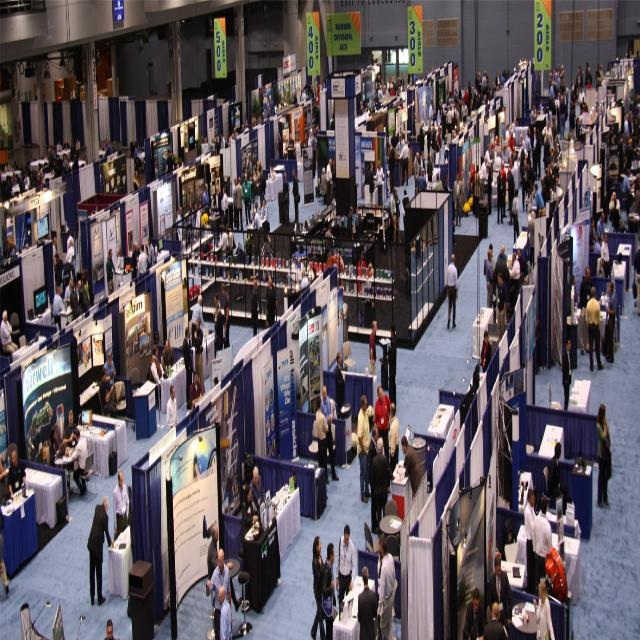body: (212, 58, 497, 221), (496, 49, 640, 270), (173, 220, 390, 296), (100, 118, 212, 224), (0, 137, 89, 270), (207, 522, 244, 614), (86, 494, 115, 609), (370, 436, 394, 542), (205, 546, 232, 640), (354, 390, 374, 506), (594, 399, 614, 512), (487, 550, 513, 632), (376, 535, 396, 639), (532, 495, 552, 597), (374, 384, 392, 495), (310, 534, 328, 640), (334, 522, 356, 606), (321, 384, 339, 486), (585, 286, 605, 374), (400, 434, 425, 502), (356, 564, 378, 640), (320, 541, 336, 639), (523, 487, 537, 596), (67, 427, 88, 497), (560, 333, 575, 427), (532, 579, 555, 640), (546, 440, 567, 506), (579, 265, 594, 357), (368, 424, 380, 536), (112, 469, 130, 543), (0, 452, 9, 597), (315, 393, 329, 486), (462, 585, 485, 640), (241, 482, 260, 544), (445, 248, 459, 332), (7, 442, 27, 498), (385, 322, 397, 412), (182, 324, 194, 414), (193, 316, 206, 398), (605, 280, 617, 364), (99, 367, 118, 419), (376, 531, 385, 640), (510, 268, 532, 312), (483, 601, 507, 640), (0, 308, 19, 354), (190, 293, 206, 347), (388, 402, 400, 473), (248, 464, 266, 509), (218, 584, 232, 640), (334, 350, 345, 421), (48, 424, 64, 471), (213, 301, 226, 358), (497, 272, 507, 345), (626, 267, 640, 319), (149, 343, 164, 390), (52, 286, 67, 332), (221, 282, 231, 350), (62, 407, 78, 449), (484, 248, 495, 308), (189, 367, 204, 410), (250, 277, 260, 338), (103, 349, 117, 392), (494, 261, 502, 335), (479, 329, 492, 374), (368, 319, 378, 377), (166, 384, 178, 432), (160, 337, 176, 373), (77, 278, 91, 319), (265, 276, 276, 328), (105, 246, 116, 297), (68, 280, 81, 322), (130, 240, 141, 281), (570, 272, 580, 312), (137, 242, 148, 277), (146, 233, 156, 270), (212, 292, 221, 325), (415, 230, 426, 256), (104, 618, 115, 640), (63, 279, 73, 301), (488, 241, 495, 270), (82, 276, 90, 301)
